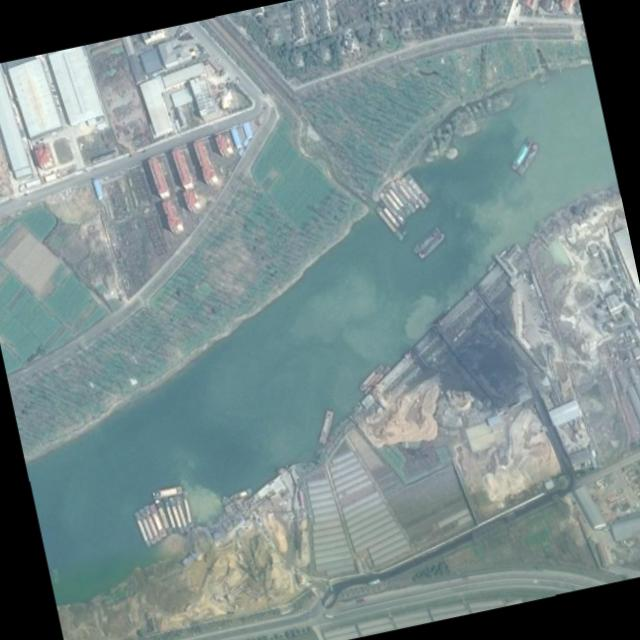ship: (374, 206, 403, 242), (378, 203, 405, 236), (389, 181, 415, 214), (399, 177, 425, 210), (378, 193, 404, 225), (384, 185, 409, 217), (404, 173, 429, 205), (394, 179, 418, 210), (412, 227, 440, 253), (516, 143, 538, 175), (363, 368, 389, 395), (382, 190, 405, 220), (359, 363, 383, 391), (510, 138, 531, 170), (138, 508, 156, 545), (143, 505, 160, 541), (148, 504, 166, 538), (134, 512, 151, 548), (419, 234, 443, 259), (168, 497, 183, 534), (318, 410, 332, 445), (154, 499, 169, 531), (175, 495, 187, 531), (163, 501, 177, 531), (182, 491, 193, 527), (151, 487, 181, 499), (228, 487, 251, 502)
